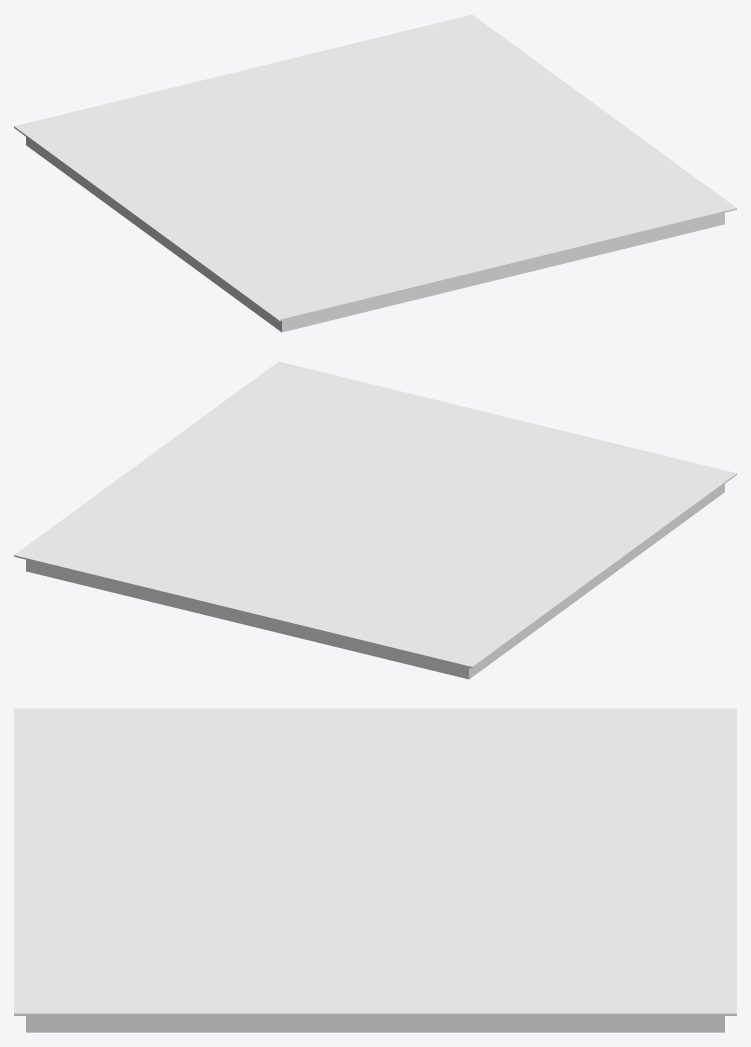
File: Ceiling0002.obj
3 renders of one model, top to bottom at view 1: azimuth 30°, elevation 25°; view 2: azimuth 150°, elevation 25°; view 3: azimuth 270°, elevation 25°, orthographic. The views are drawn at different scales.
Bounding box in the file's own units: 3 × 0.11 × 3.
Materials: 1 (1 with a texture image).
